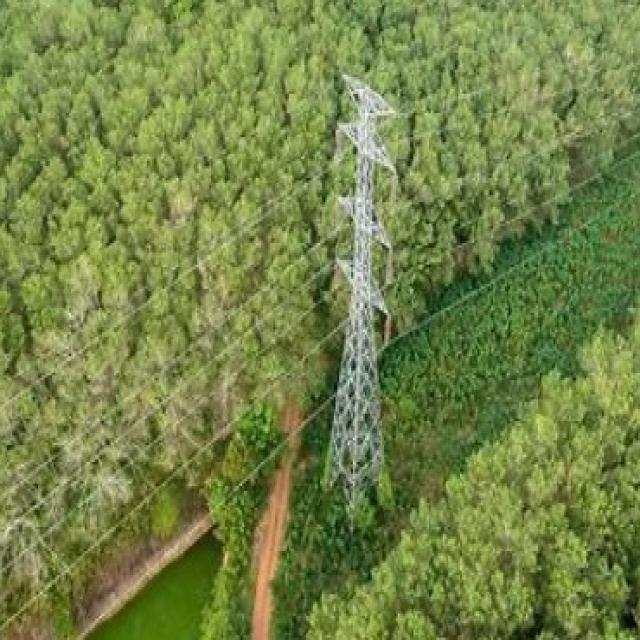utility poles: (313, 31, 416, 512)
